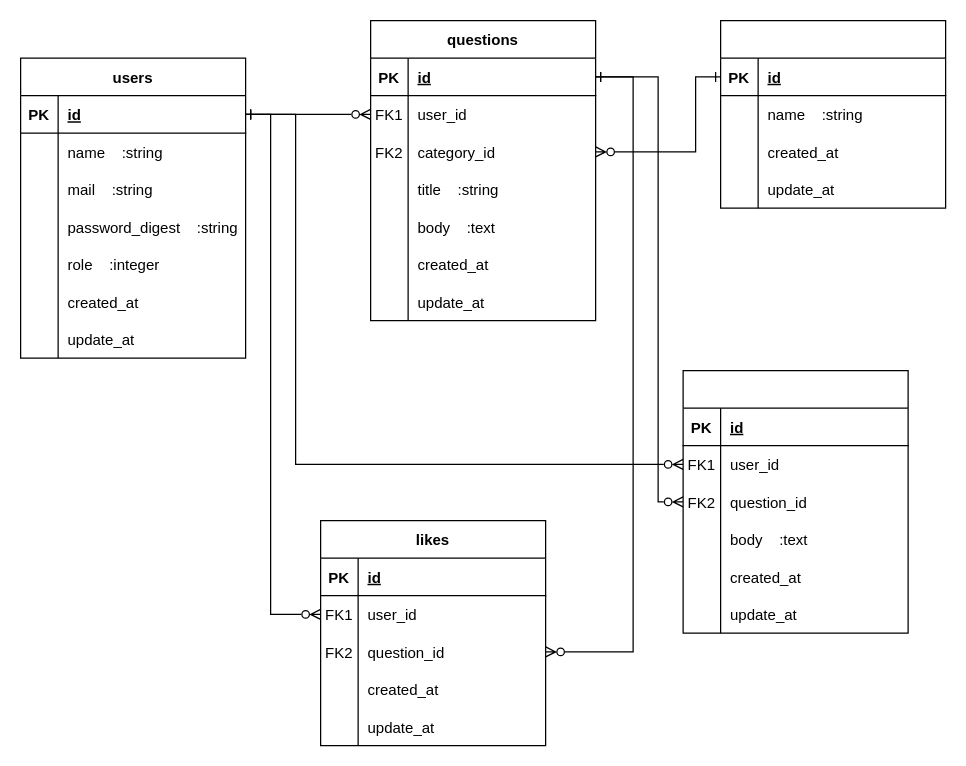
Image size: 966x766. Some labels were removed from this diagram. Each missing label, with the box of its shape:
answers: (682, 369, 908, 633)
categories: (719, 19, 946, 208)
